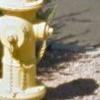Hydrant: (1, 4, 55, 100)
